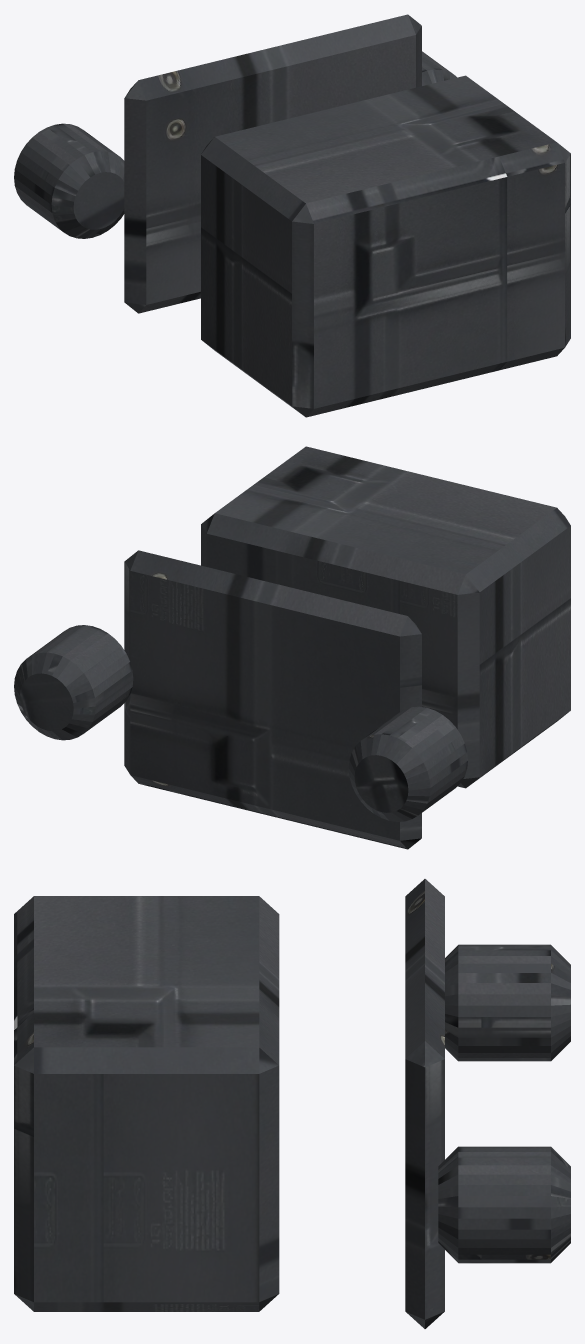
Rendered from battery.glb.
3 views of the same model, one above another, from view 1: azimuth 30°, elevation 25°; view 2: azimuth 150°, elevation 25°; view 3: azimuth 270°, elevation 25° (orthographic). The views are drawn at different scales.
Parts seen in each view (by area): view 1: Cube; view 2: Cube; view 3: Cube.
Boxes of the visible parts, <box> form: Cube: <box>14,14,570,417</box>; Cube: <box>14,446,570,849</box>; Cube: <box>14,879,570,1328</box>.
Size of the model in its own units: 0.224 by 0.12 by 0.21.
1 material, 1 textured.
